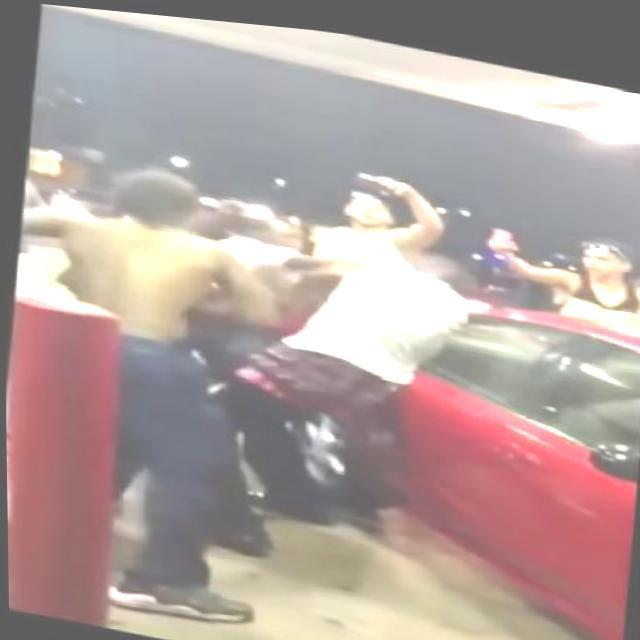fight: (23, 158, 495, 586)
